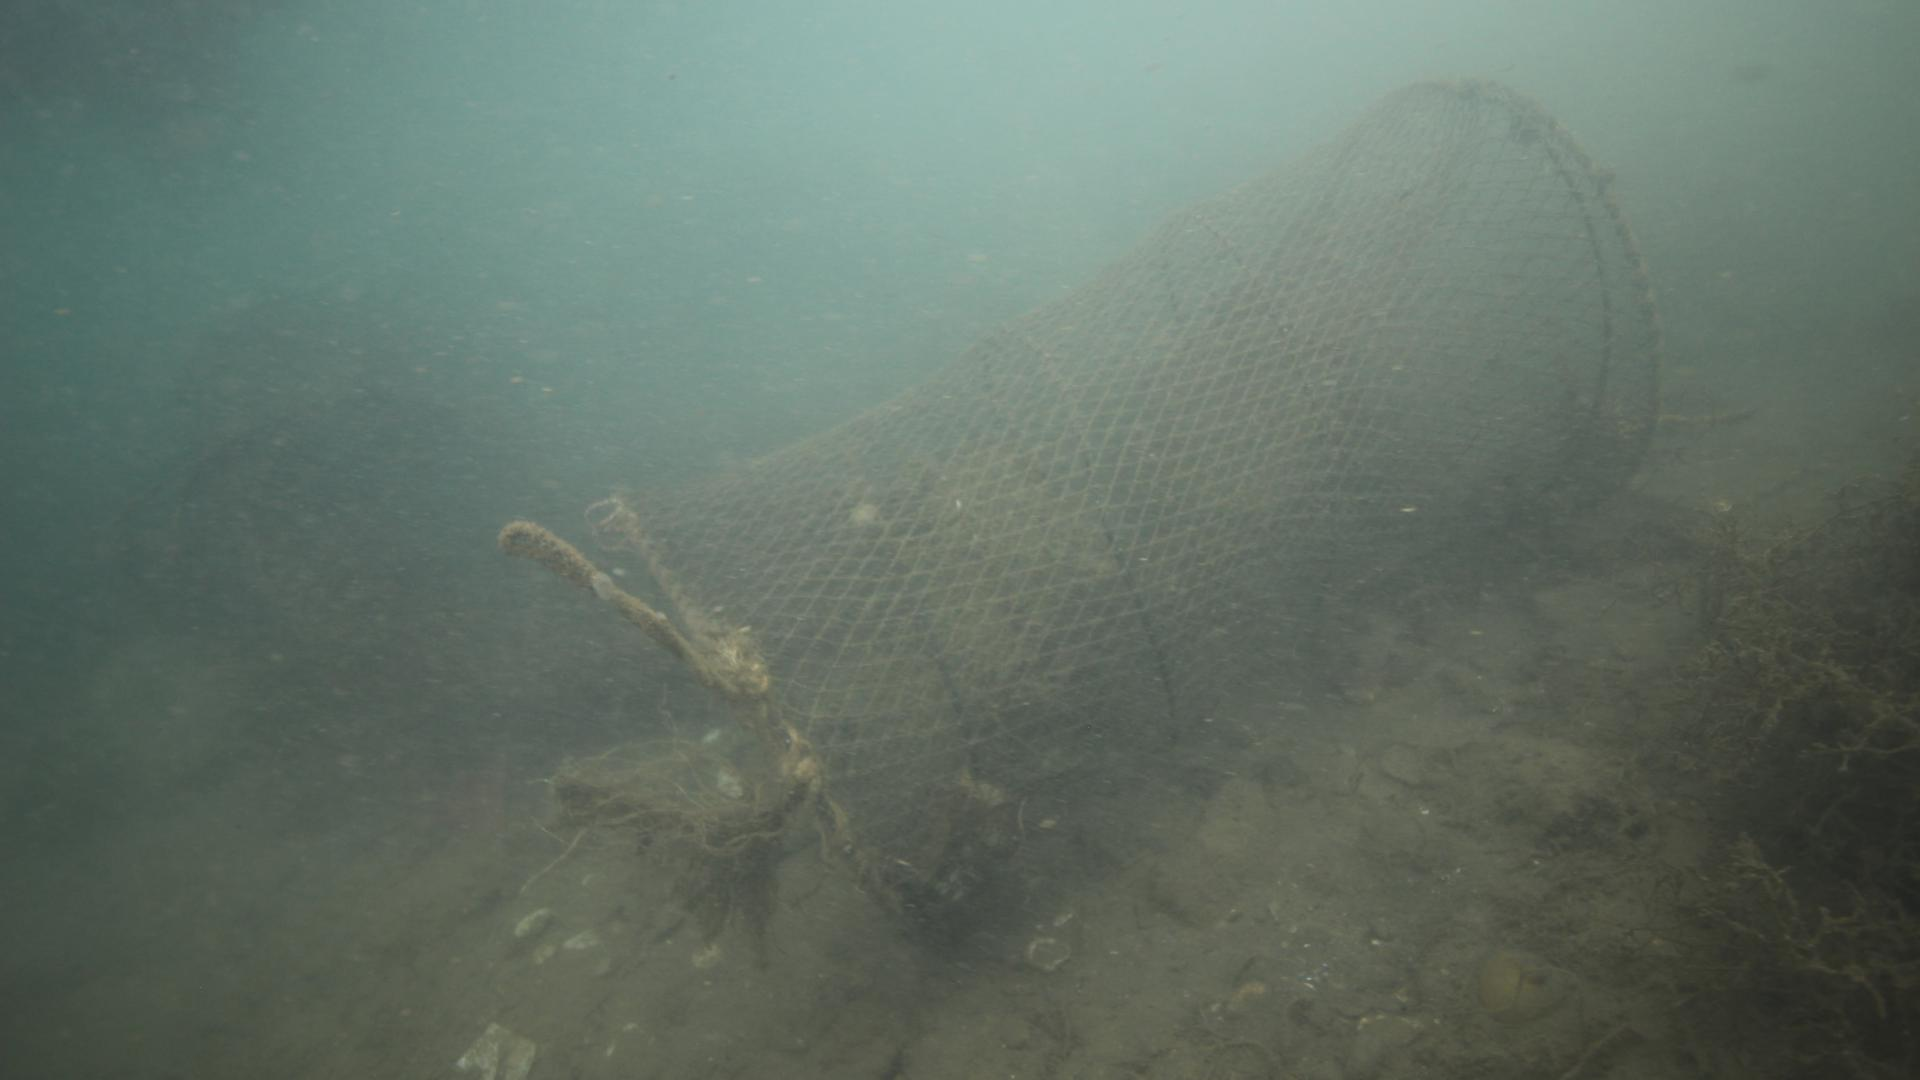rope: (495, 520, 738, 702)
spring fish trap: (607, 73, 1671, 952)
